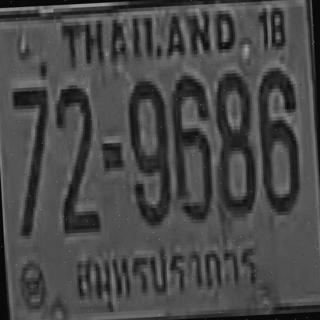N02: (54, 81, 99, 230)
N06: (168, 70, 212, 219), (256, 65, 300, 211)
N07: (11, 82, 54, 235)
N08: (212, 69, 256, 215)
N09: (126, 77, 170, 223)
P57: (71, 231, 264, 313)
